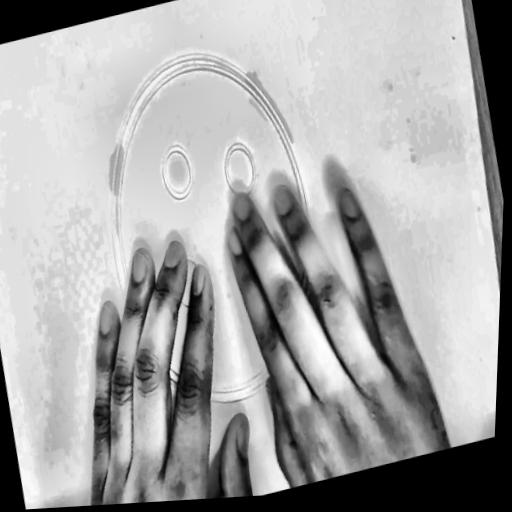button: (74, 26, 351, 445)
